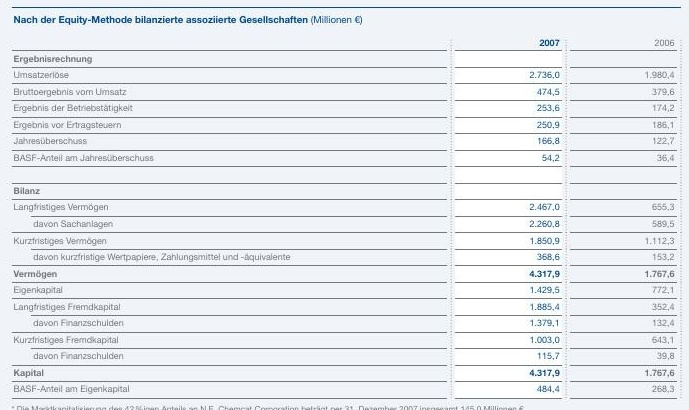table: (0, 0, 689, 410)
